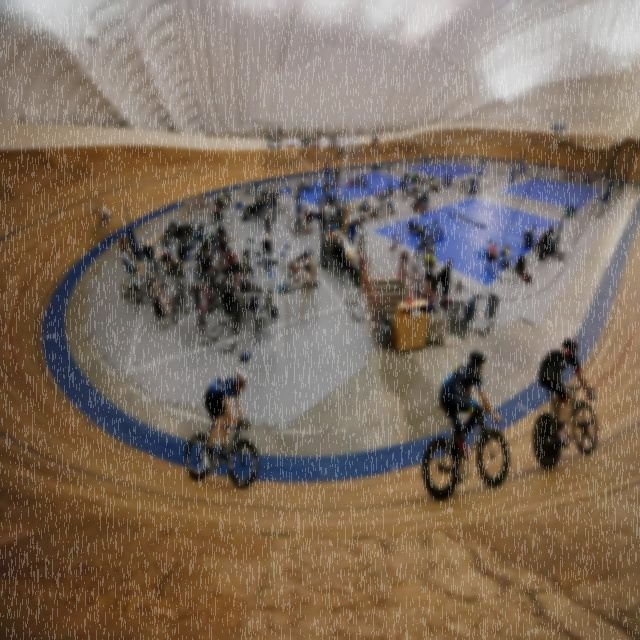pessoa: (156, 194, 266, 328), (437, 347, 503, 485), (536, 336, 595, 452), (199, 368, 248, 470), (368, 166, 442, 214), (315, 176, 337, 266), (120, 240, 144, 294), (423, 245, 438, 299), (437, 256, 453, 300), (337, 238, 350, 276), (262, 206, 274, 246), (356, 222, 367, 262), (96, 206, 112, 232), (302, 208, 316, 234), (356, 218, 368, 244), (333, 204, 344, 232), (423, 238, 436, 261), (523, 224, 537, 245), (330, 232, 340, 261), (346, 174, 366, 187), (486, 240, 498, 260), (465, 168, 474, 194), (348, 218, 356, 247), (270, 186, 276, 221), (358, 196, 368, 216), (342, 213, 349, 239), (537, 230, 547, 248), (258, 191, 265, 215), (334, 163, 341, 184), (519, 146, 528, 162), (261, 182, 270, 198), (346, 142, 355, 158), (370, 140, 378, 157), (119, 232, 125, 248), (336, 144, 342, 158), (359, 142, 365, 156), (303, 174, 309, 187), (417, 142, 422, 156), (405, 143, 410, 155), (474, 170, 479, 180), (550, 219, 554, 228), (262, 188, 264, 200)
